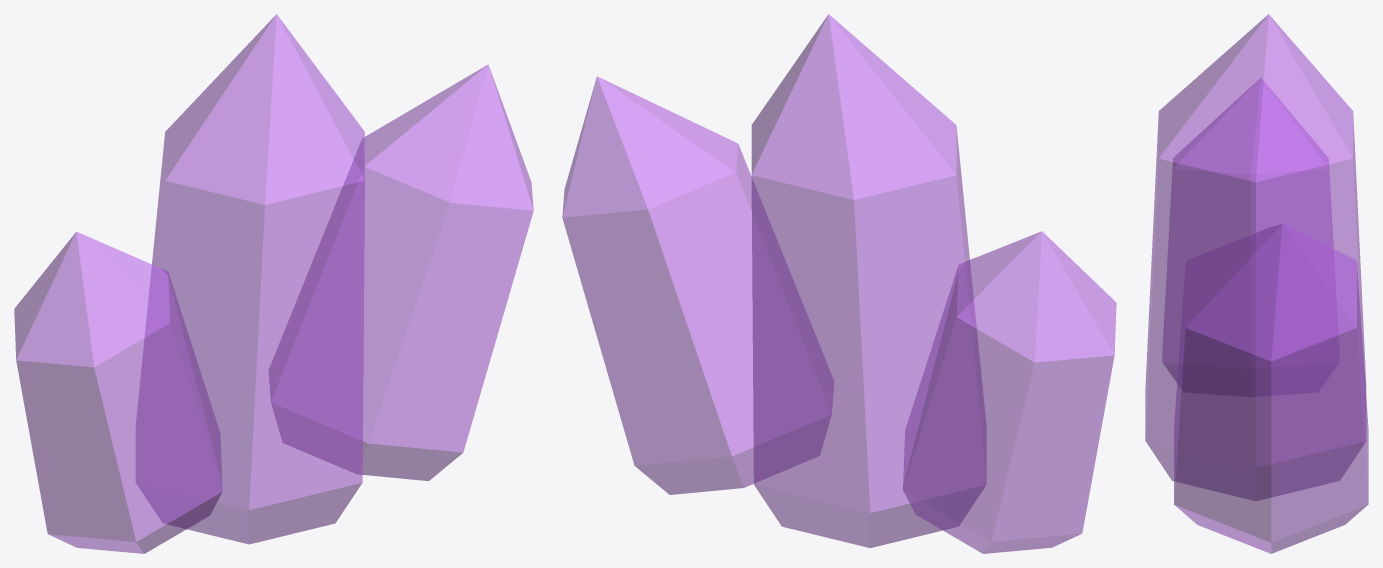
The model's file is purple-crystal-cluster.glb.
3 views of the same model, side by side, from view 1: azimuth 30°, elevation 25°; view 2: azimuth 150°, elevation 25°; view 3: azimuth 270°, elevation 25° (orthographic). The views are drawn at different scales.
Visible parts, largest first — view 1: Purple Crystal Centre, Purple Crystal Right, Purple Crystal Left; view 2: Purple Crystal Centre, Purple Crystal Right, Purple Crystal Left; view 3: Purple Crystal Centre, Purple Crystal Right, Purple Crystal Left.
Boxes of the visible parts, bbox=[...] form: Purple Crystal Centre: bbox=[136, 14, 364, 544]; Purple Crystal Right: bbox=[269, 64, 533, 480]; Purple Crystal Left: bbox=[14, 232, 222, 553]; Purple Crystal Centre: bbox=[751, 14, 986, 547]; Purple Crystal Right: bbox=[562, 76, 833, 494]; Purple Crystal Left: bbox=[903, 231, 1116, 553]; Purple Crystal Centre: bbox=[1145, 14, 1366, 500]; Purple Crystal Right: bbox=[1174, 224, 1368, 553]; Purple Crystal Left: bbox=[1162, 78, 1333, 381].
Size of the model in its own units: 1.16 by 1.01 by 0.437.
